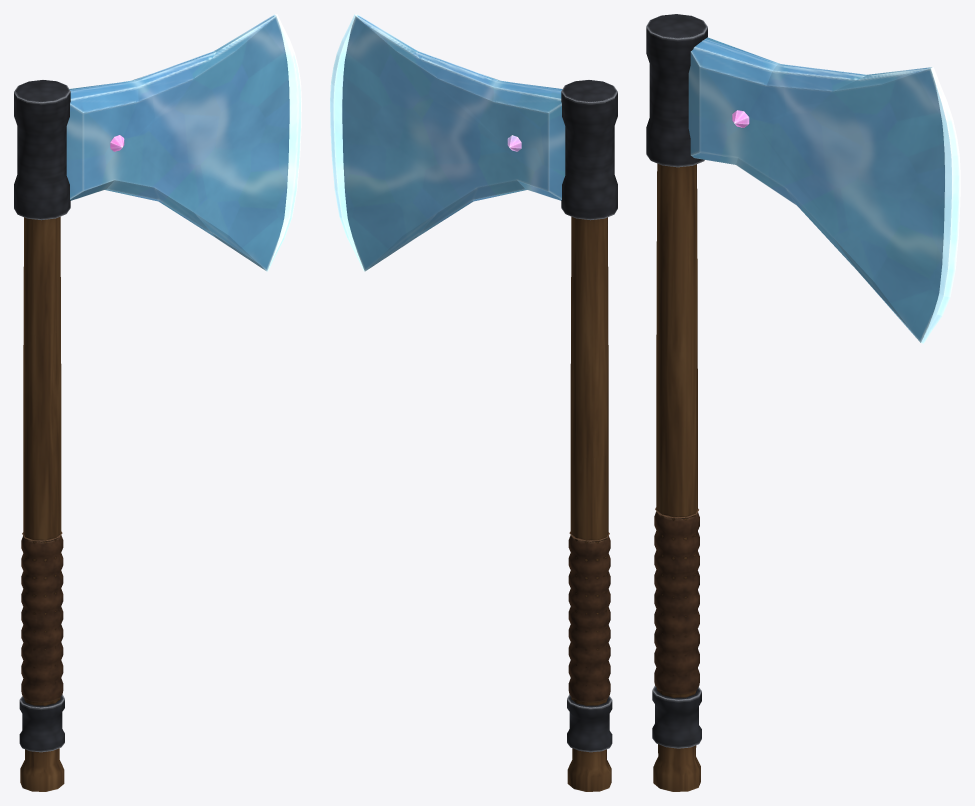
Rendered from crystal-weapon-axe.glb.
The picture shows the model from 3 angles, left to right: view 1: azimuth 30°, elevation 25°; view 2: azimuth 150°, elevation 25°; view 3: azimuth 330°, elevation 25°; orthographic projection. The views are drawn at different scales.
Visible parts, largest first — view 1: axe-head, haft, head-band, grip-wrap, edge, lower-band; view 2: axe-head, haft, head-band, grip-wrap, edge, lower-band; view 3: axe-head, haft, grip-wrap, head-band, edge, lower-band.
Part boxes in pixels (x1,y1,x2,y2): axe-head: (66, 14, 289, 271); haft: (20, 216, 64, 791); head-band: (14, 80, 70, 220); grip-wrap: (21, 531, 63, 702); edge: (261, 14, 301, 271); lower-band: (19, 694, 64, 752); axe-head: (342, 14, 565, 271); haft: (567, 216, 611, 791); head-band: (561, 80, 617, 220); grip-wrap: (568, 531, 610, 702); edge: (330, 14, 370, 271); lower-band: (567, 694, 612, 752); axe-head: (688, 37, 944, 342); haft: (653, 163, 700, 791); grip-wrap: (654, 507, 699, 694); head-band: (646, 14, 707, 167); edge: (921, 67, 960, 343); lower-band: (652, 686, 701, 748).
Bounding box in the file's own units: 0.493 × 1.19 × 0.084.
7 materials, 7 textured.
